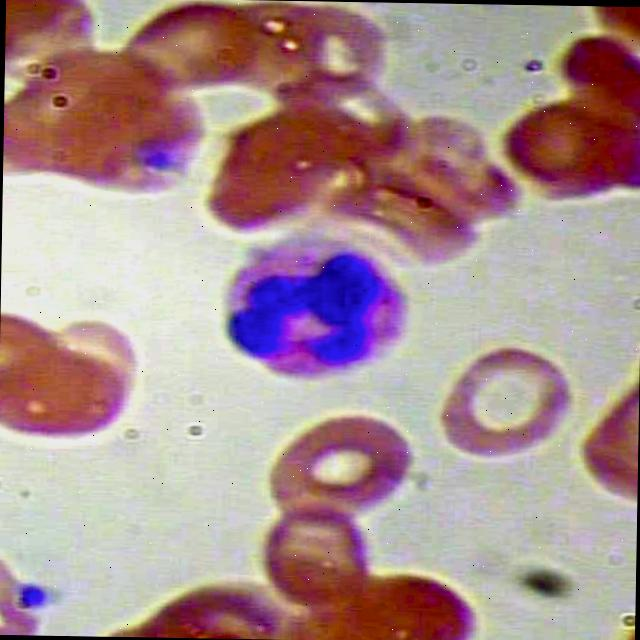Platelets: (10, 579, 58, 620), (457, 2, 508, 10)
RBC: (428, 337, 586, 480), (270, 406, 420, 532), (498, 89, 640, 203), (120, 0, 276, 95), (254, 494, 374, 616), (0, 343, 133, 444)
WBC: (201, 200, 420, 394)
